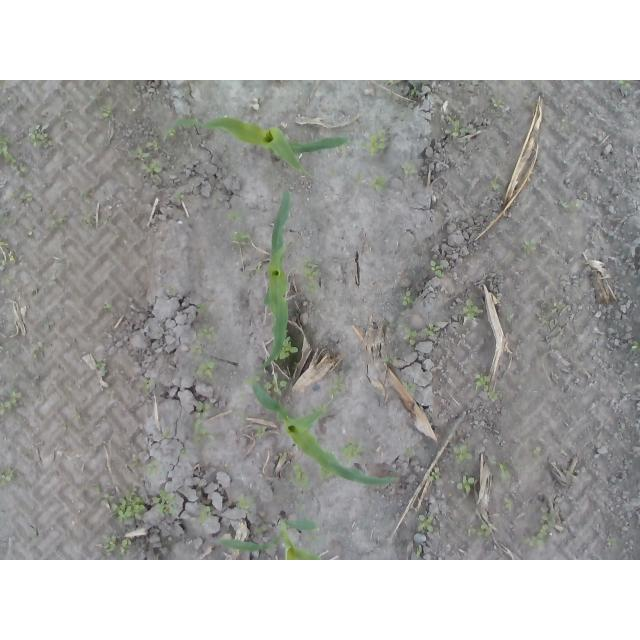Maize: (251, 377, 402, 487), (163, 118, 351, 178), (255, 191, 291, 373), (213, 512, 324, 561)
Weeds: (95, 484, 148, 524), (518, 513, 559, 548), (0, 135, 28, 177), (534, 296, 570, 327), (191, 345, 219, 382), (359, 127, 386, 161), (193, 400, 213, 444), (474, 374, 502, 403), (263, 371, 290, 399), (152, 487, 176, 518), (341, 439, 367, 465), (102, 532, 130, 556), (326, 374, 349, 403), (444, 115, 473, 138), (303, 255, 321, 289), (276, 336, 300, 360), (147, 458, 170, 481), (452, 443, 474, 466), (455, 474, 476, 497), (289, 463, 308, 488), (414, 511, 434, 534), (28, 126, 48, 149), (0, 388, 16, 416), (239, 495, 258, 517), (467, 522, 493, 538), (125, 145, 151, 160), (463, 296, 479, 320), (222, 209, 246, 224), (400, 326, 417, 347), (241, 371, 264, 386), (0, 465, 16, 486), (46, 271, 64, 289), (399, 286, 415, 306), (197, 503, 211, 525), (429, 258, 444, 278), (368, 176, 385, 193), (14, 190, 32, 206), (497, 463, 512, 482), (424, 320, 440, 337), (401, 160, 417, 177), (144, 161, 162, 176), (496, 497, 515, 511), (233, 409, 247, 427), (400, 380, 416, 395), (229, 229, 249, 241), (48, 217, 64, 232), (81, 208, 96, 224), (521, 240, 537, 255), (490, 95, 506, 110), (384, 80, 401, 94), (197, 326, 215, 339), (319, 465, 334, 479), (490, 178, 503, 193), (430, 466, 442, 482), (100, 104, 112, 120), (1, 273, 14, 287), (273, 451, 287, 464), (529, 183, 545, 194), (97, 215, 114, 225), (560, 201, 577, 211), (143, 377, 155, 391), (559, 114, 570, 129), (615, 80, 633, 89), (355, 176, 365, 192), (408, 80, 418, 96), (147, 140, 161, 151), (82, 189, 93, 203), (336, 143, 351, 153), (403, 447, 415, 458), (383, 355, 395, 366), (326, 167, 338, 178), (30, 345, 39, 359), (95, 359, 106, 370), (415, 544, 423, 559), (164, 128, 177, 137), (196, 304, 209, 313), (631, 339, 640, 352), (375, 447, 386, 457), (175, 192, 185, 203), (255, 427, 264, 439), (304, 168, 316, 177), (179, 448, 188, 460), (607, 536, 617, 546), (256, 524, 267, 533), (163, 432, 174, 440), (256, 263, 264, 274), (104, 304, 113, 313), (532, 446, 540, 456), (240, 147, 248, 156), (0, 260, 6, 271), (220, 114, 231, 120), (310, 528, 320, 534), (427, 96, 433, 105), (240, 391, 245, 401), (255, 412, 261, 419), (0, 240, 4, 247)
